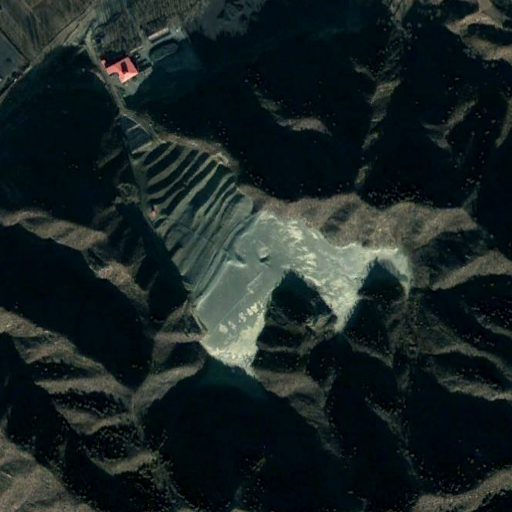tp: (119, 113, 414, 398)
